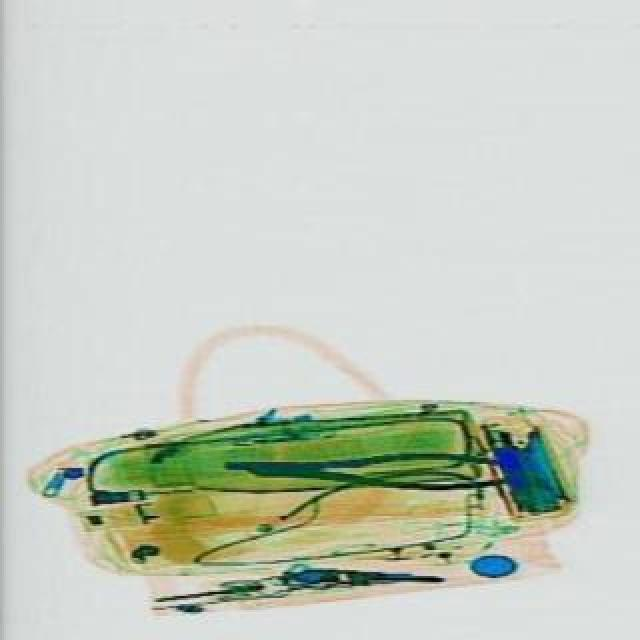wrench: (222, 442, 498, 490)
